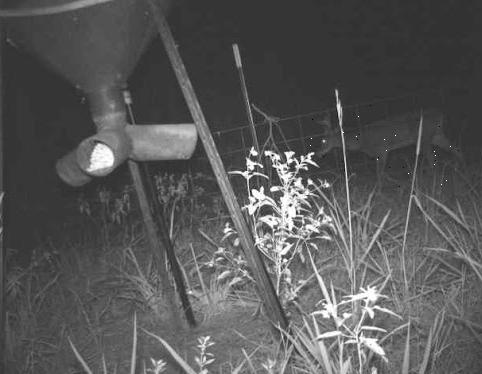Deer: (309, 99, 463, 187)
